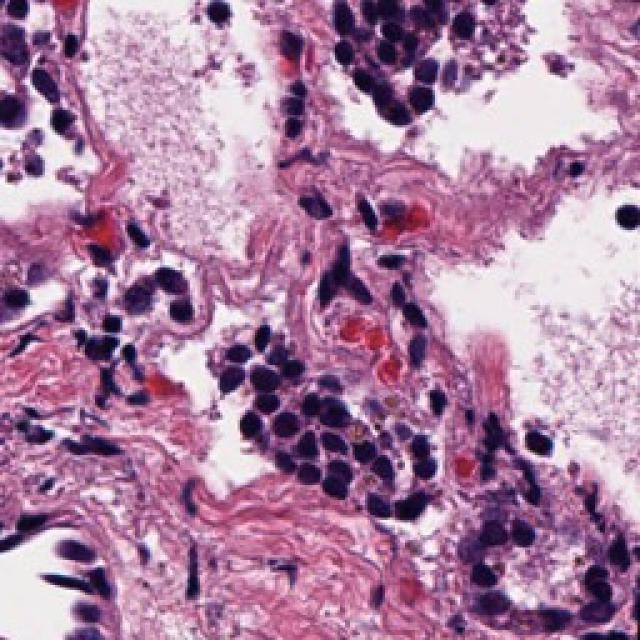normal: (453, 499, 518, 557), (342, 416, 393, 481), (498, 506, 547, 570), (153, 279, 207, 335), (269, 397, 320, 455), (19, 51, 66, 113), (572, 562, 622, 619), (236, 355, 284, 408), (229, 396, 268, 458), (352, 485, 403, 532), (406, 443, 451, 489), (406, 43, 445, 93), (322, 464, 357, 516)
